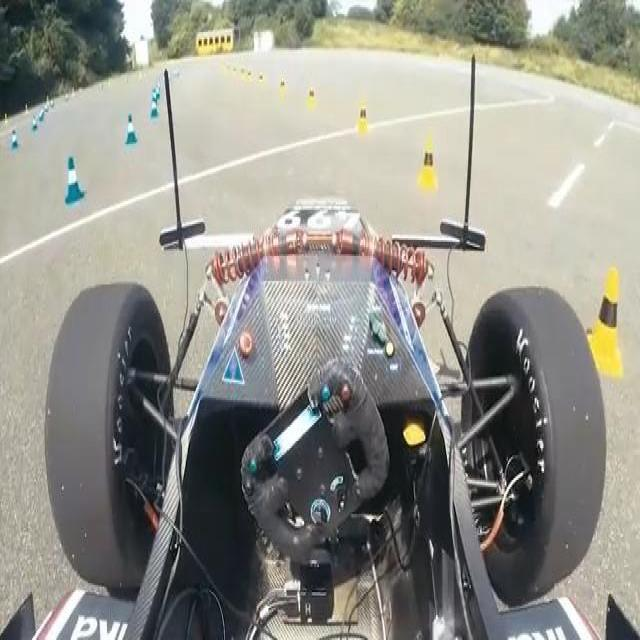blue_cone: (60, 151, 84, 205), (124, 112, 138, 148), (149, 94, 158, 120), (10, 126, 19, 150), (152, 84, 160, 110), (31, 117, 38, 134), (38, 108, 44, 125)
yellow_cone: (579, 256, 625, 377), (417, 137, 441, 191), (355, 103, 369, 139), (307, 85, 315, 112), (279, 77, 286, 99), (257, 70, 264, 90), (240, 64, 246, 81), (247, 68, 253, 83), (233, 66, 237, 79)
